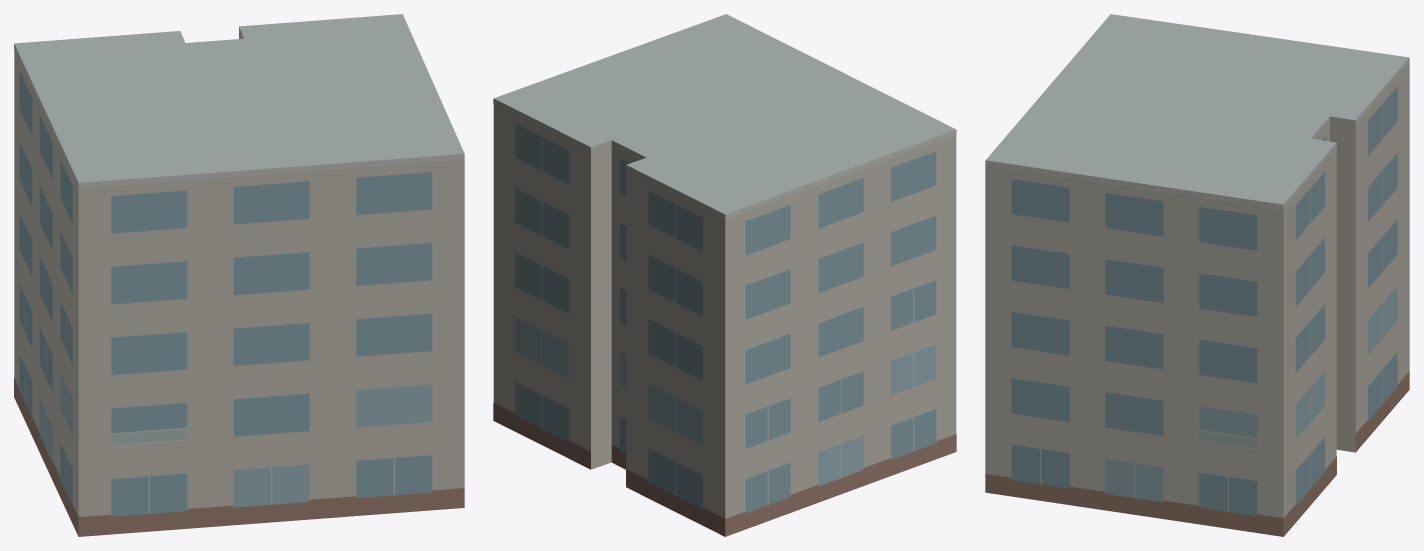
The model's file is survey-upis-32973453.glb.
3 views of the same model, side by side, from view 1: azimuth 30°, elevation 25°; view 2: azimuth 150°, elevation 25°; view 3: azimuth 270°, elevation 25° (orthographic). The views are drawn at different scales.
Parts seen in each view (by area): view 1: survey-upis-32973453.tmp; view 2: survey-upis-32973453.tmp; view 3: survey-upis-32973453.tmp.
Boxes of the visible parts, x1=… form: survey-upis-32973453.tmp: x1=14, y1=14, x2=464, y2=536; survey-upis-32973453.tmp: x1=493, y1=14, x2=956, y2=536; survey-upis-32973453.tmp: x1=985, y1=14, x2=1409, y2=536.
Size of the model in its own units: 17.73 by 14.4 by 16.67.
